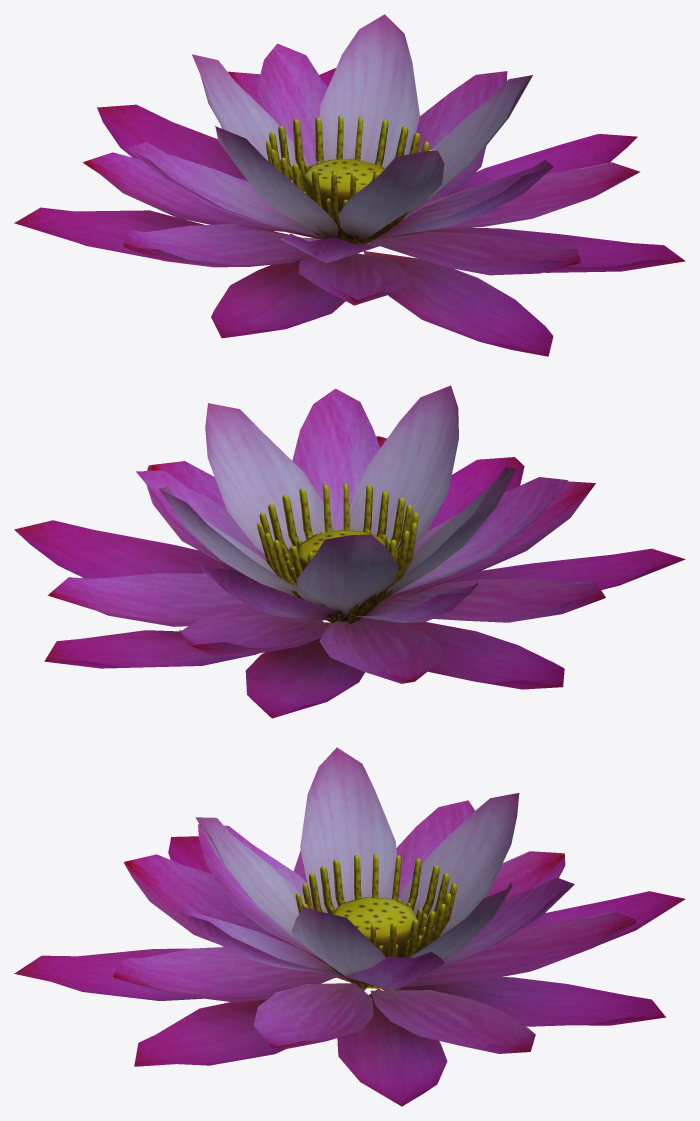
File: A_FleurLotus.fbx
3 views of the same model, one above another, from view 1: azimuth 30°, elevation 25°; view 2: azimuth 150°, elevation 25°; view 3: azimuth 270°, elevation 25° (orthographic). The views are drawn at different scales.
Visible parts, largest first — view 1: A_FleurLotus_LD; view 2: A_FleurLotus_LD; view 3: A_FleurLotus_LD.
Part boxes in pixels (x1,y1,x2,y2): A_FleurLotus_LD: [14, 14, 685, 356]; A_FleurLotus_LD: [14, 385, 685, 718]; A_FleurLotus_LD: [14, 747, 685, 1106].
Size of the model in its own units: 36.15 by 10.66 by 37.19.
1 material, 1 textured.
